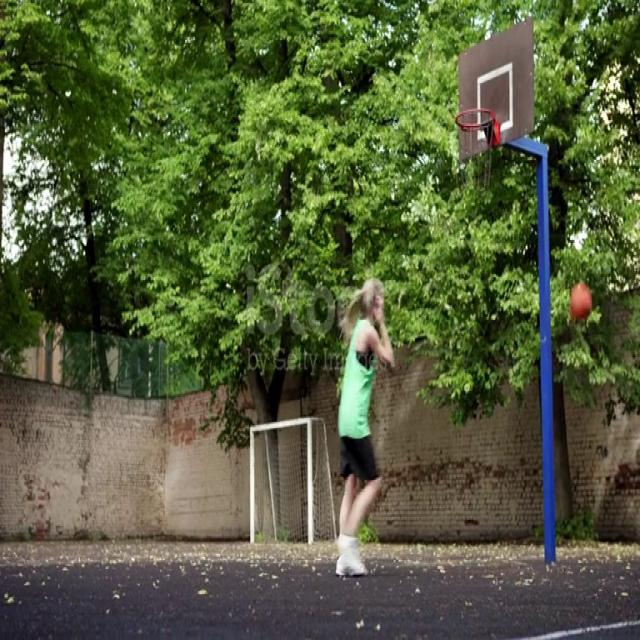ball: (568, 280, 594, 324)
